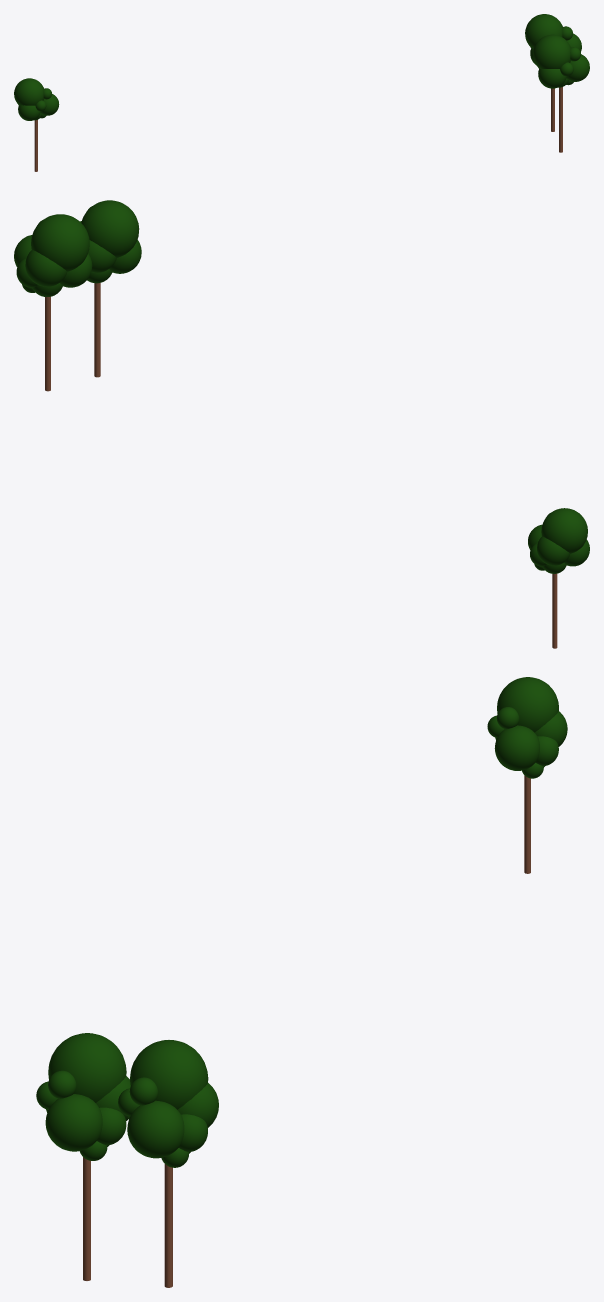
The model's file is trees.glb.
The picture shows the model from 3 angles, top to bottom: view 1: azimuth 30°, elevation 25°; view 2: azimuth 150°, elevation 25°; view 3: azimuth 270°, elevation 25°; orthographic projection. The views are drawn at different scales.
Visible parts, largest first — view 1: Sphere.025, Sphere.016, Sphere.007, Sphere.022, Sphere.028, Sphere.001, Cylinder.006, Sphere.010; view 2: Sphere.016, Sphere.025, Sphere.007, Sphere.018, Cylinder.006, Sphere.002, Sphere.023; view 3: Sphere.025, Sphere.016, Sphere.013, Sphere.028, Sphere.007, Sphere.010, Cylinder.004, Cylinder.006, Sphere.018, Sphere.024, Sphere.017.
Part boxes in pixels (x1,y1,x2,y2): Sphere.025: (533,34,570,68); Sphere.016: (525,14,562,48); Sphere.007: (14,78,43,105); Sphere.022: (538,68,566,88); Sphere.028: (566,54,589,81); Sphere.001: (18,105,40,120); Cylinder.006: (559,87,562,152); Sphere.010: (40,94,59,115); Sphere.016: (31,214,89,271); Sphere.025: (81,200,139,257); Sphere.007: (541,508,587,553); Sphere.018: (25,250,67,286); Cylinder.006: (94,283,100,377); Sphere.002: (537,536,569,565); Sphere.023: (88,240,116,272); Sphere.025: (48,1033,126,1102); Sphere.016: (130,1040,208,1109); Sphere.013: (127,1100,184,1158); Sphere.028: (45,1094,102,1151); Sphere.007: (497,677,558,732); Sphere.010: (494,725,539,770); Cylinder.004: (164,1164,172,1287); Cylinder.006: (83,1157,90,1280); Sphere.018: (178,1083,218,1127); Sphere.024: (97,1107,126,1145); Sphere.017: (178,1114,207,1151).
Size of the model in its own units: 1.71 by 0.4169 by 0.8364.
